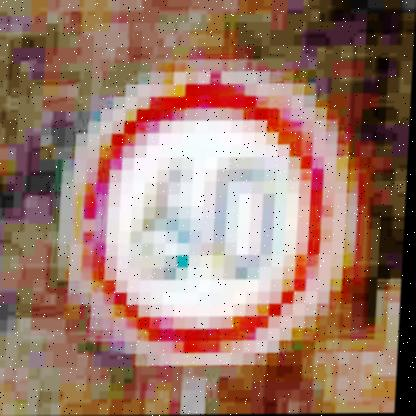Speed Limit -60-: (60, 66, 362, 369)
